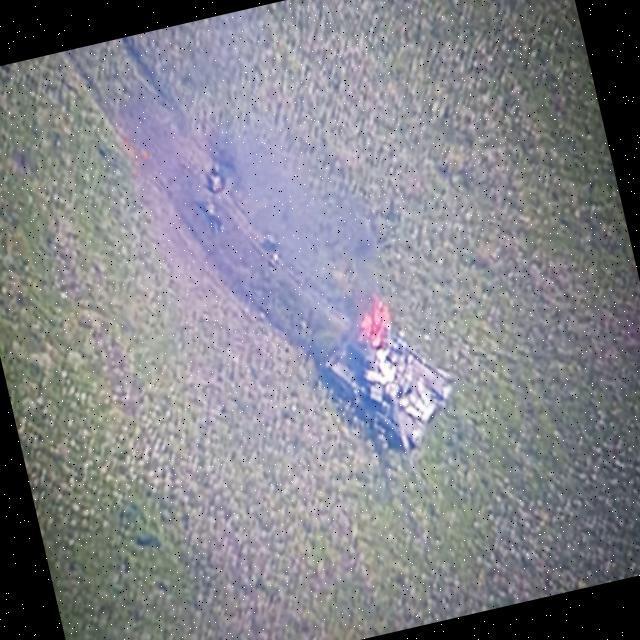MBT: (314, 292, 476, 499)
